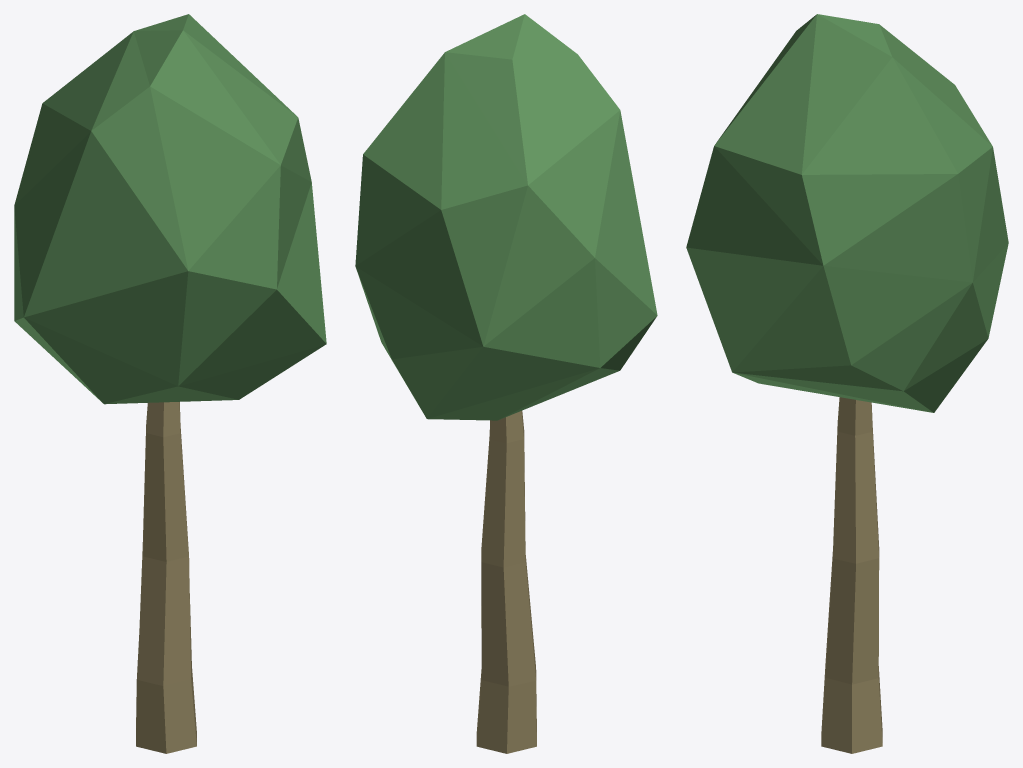
The model's file is tree1.fbx.
The picture shows the model from 3 angles, left to right: view 1: azimuth 30°, elevation 25°; view 2: azimuth 150°, elevation 25°; view 3: azimuth 270°, elevation 25°; orthographic projection.
Parts seen in each view (by area): view 1: pCylinder3; view 2: pCylinder3; view 3: pCylinder3.
Boxes of the visible parts, x1,y1,x2,y2 form: pCylinder3: (14,14,326,753); pCylinder3: (355,14,657,753); pCylinder3: (686,14,1008,753).
Bounding box in the file's own units: 9.14 × 22.62 × 9.12.
